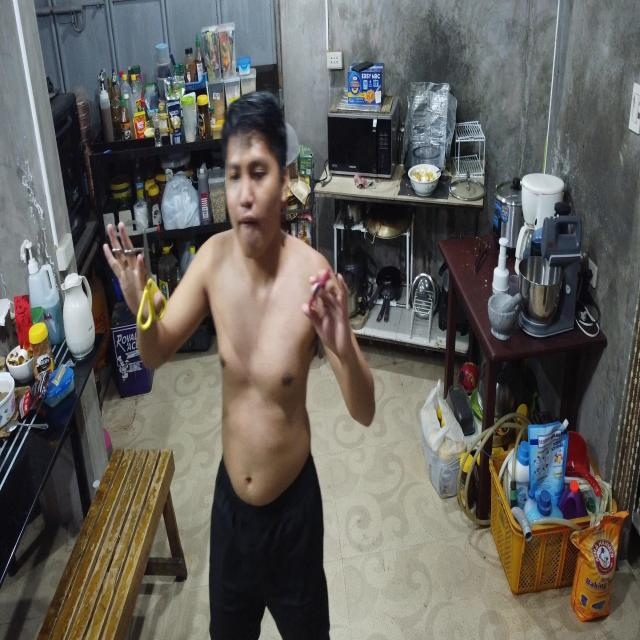scissor: (135, 230, 168, 329)
